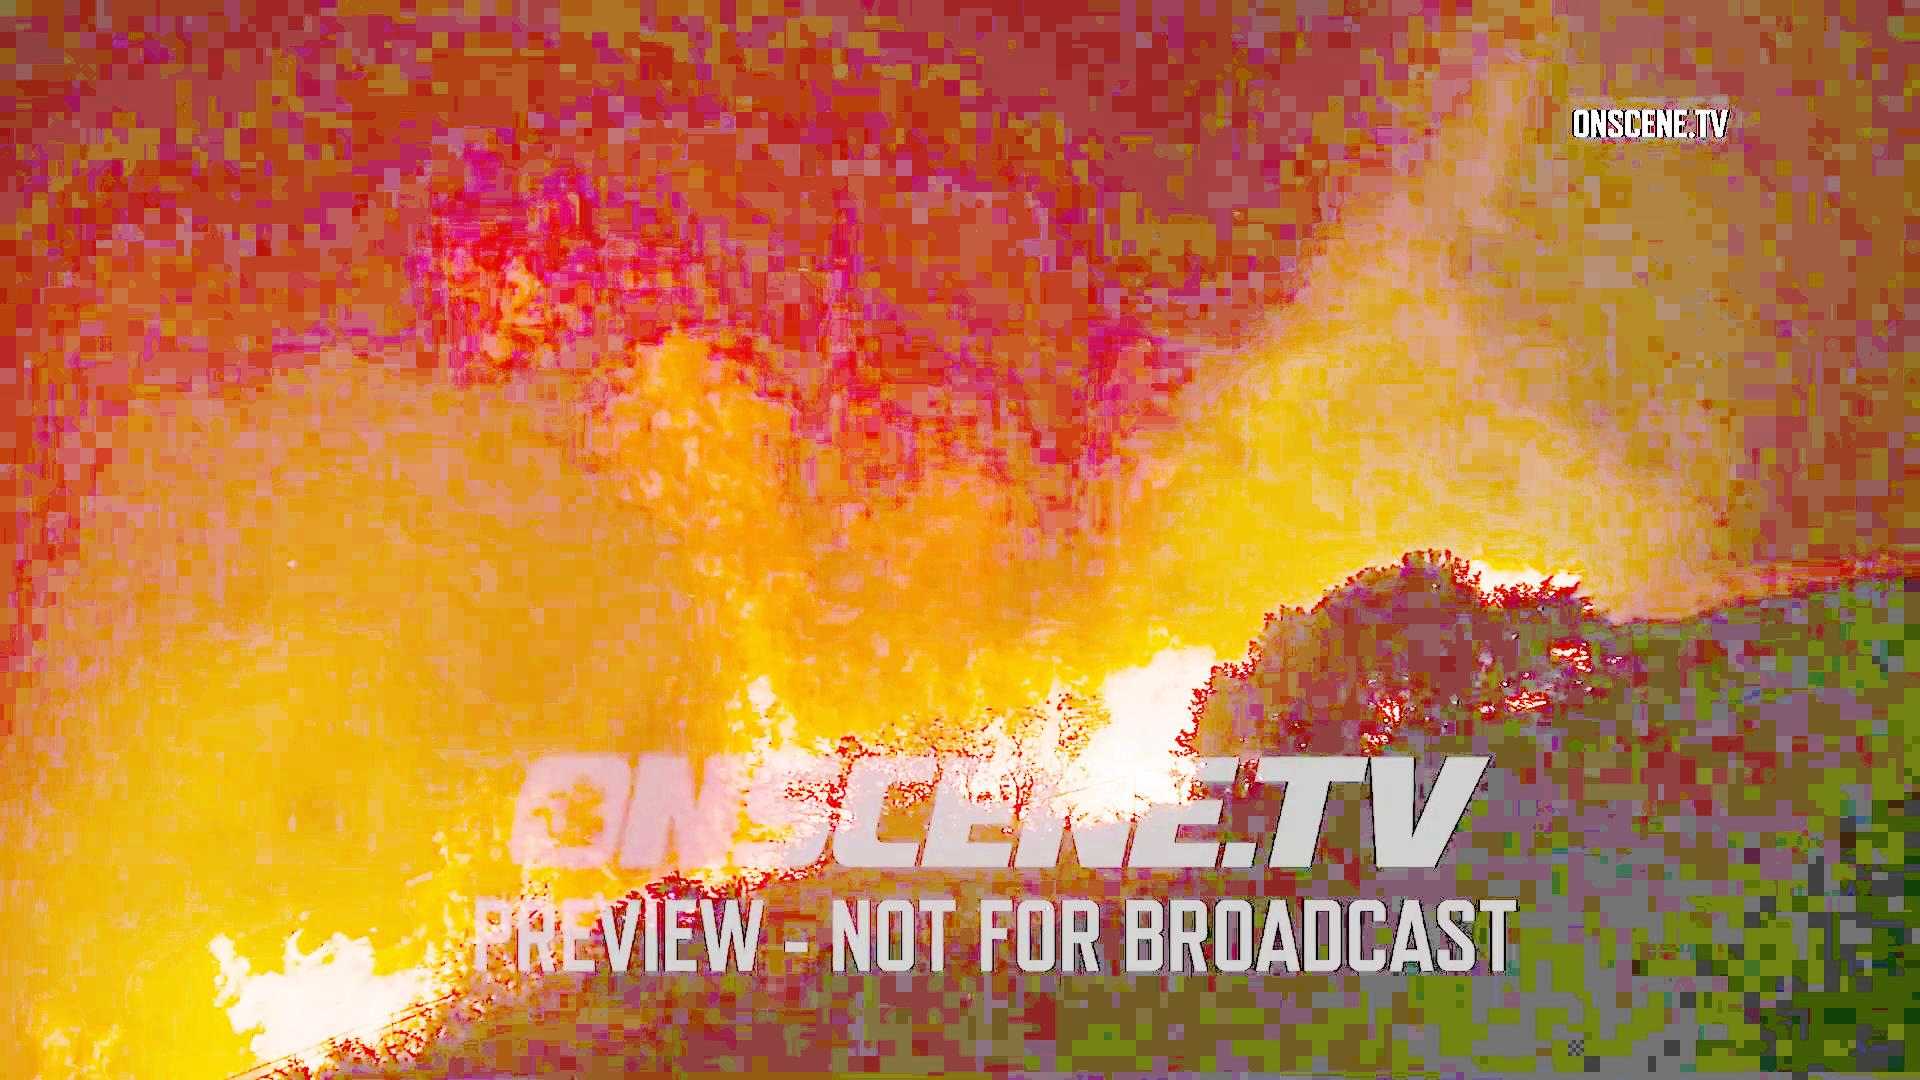fire: (189, 923, 423, 1044), (1006, 670, 1172, 793)
